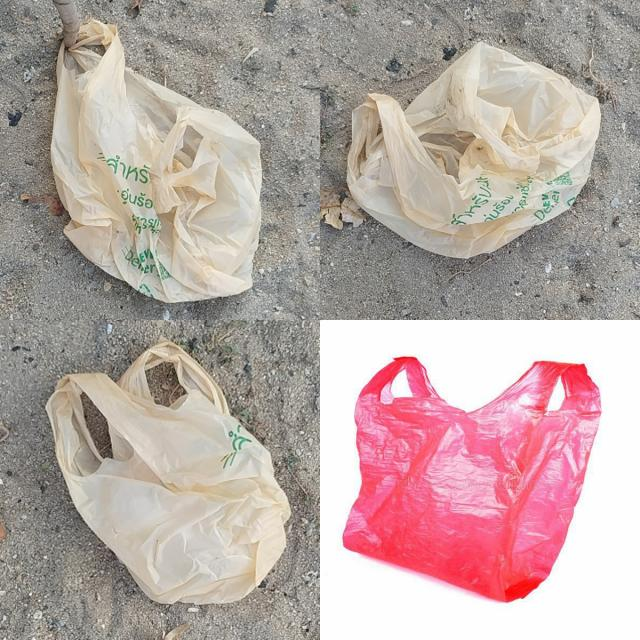Single-layer Plastic: (46, 340, 290, 604), (342, 358, 601, 601), (51, 20, 261, 302), (348, 42, 601, 258)
